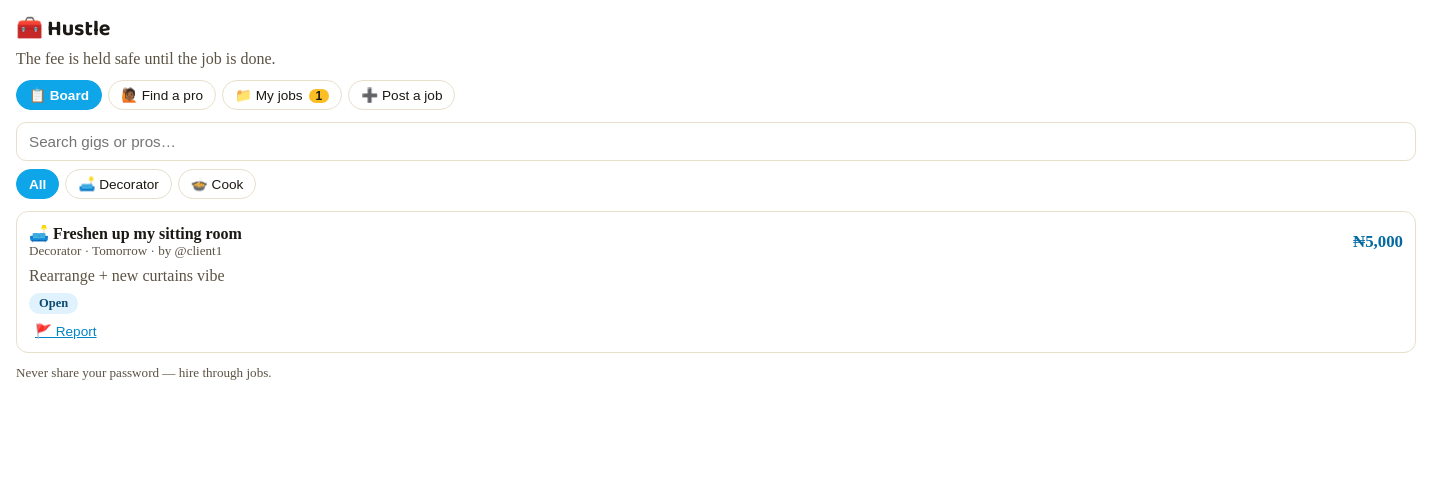
HustleApp › my jobs shows posted gigs with hire/cancel actions
The width and height of the screenshot is (1433, 477).
Click the tab "📁 My jobs1". click: (282, 95)
box: [222, 80, 342, 110]
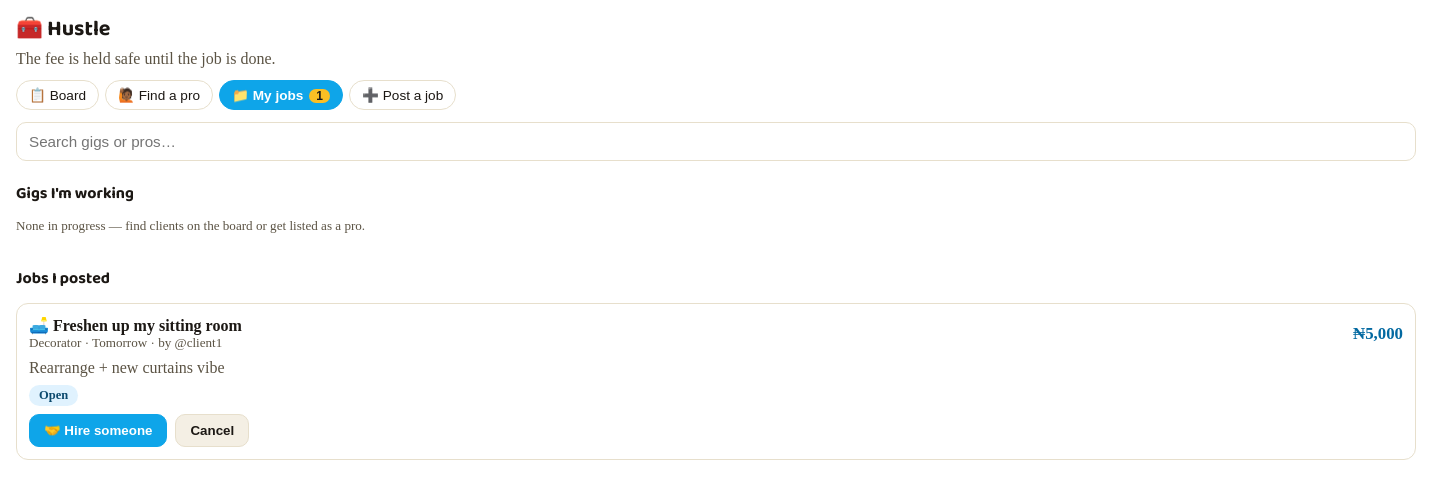
Now the button "🤝 Hire someone" is shown, box [29, 414, 168, 447]
Now the heading "Jobs I posted" is shown, box [16, 266, 110, 291]
